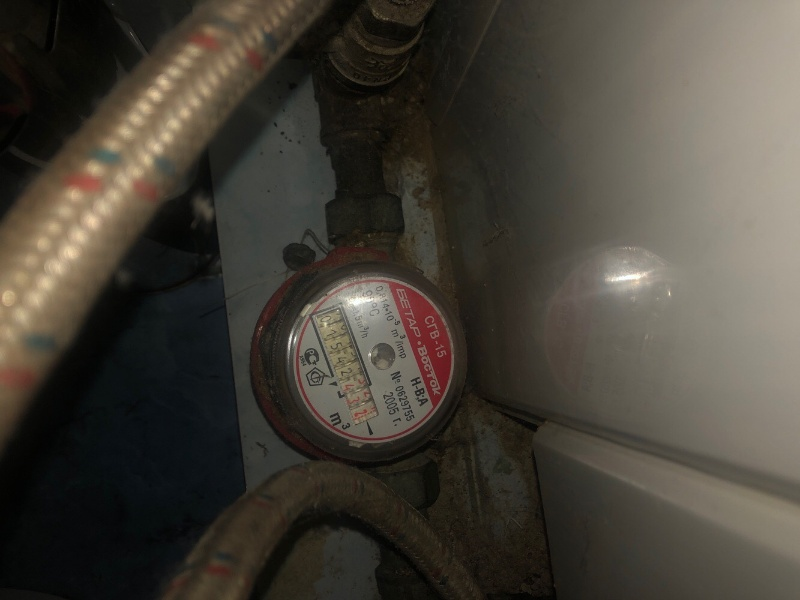dial: (317, 309, 369, 422)
